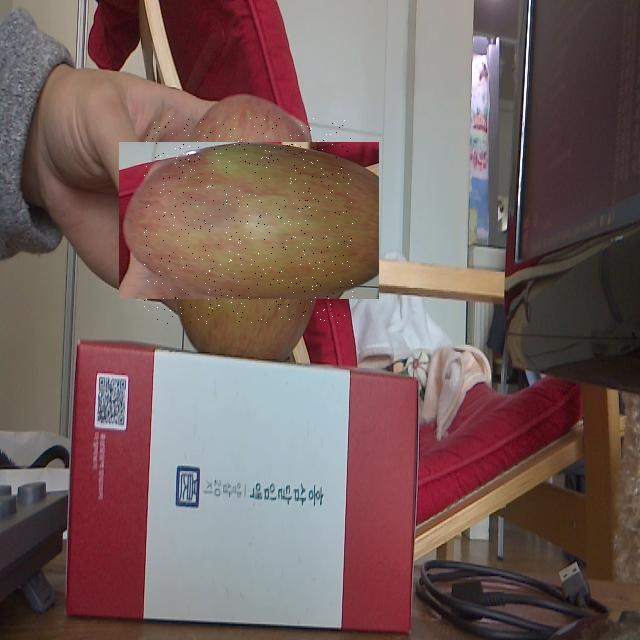apple: (144, 116, 354, 324)
